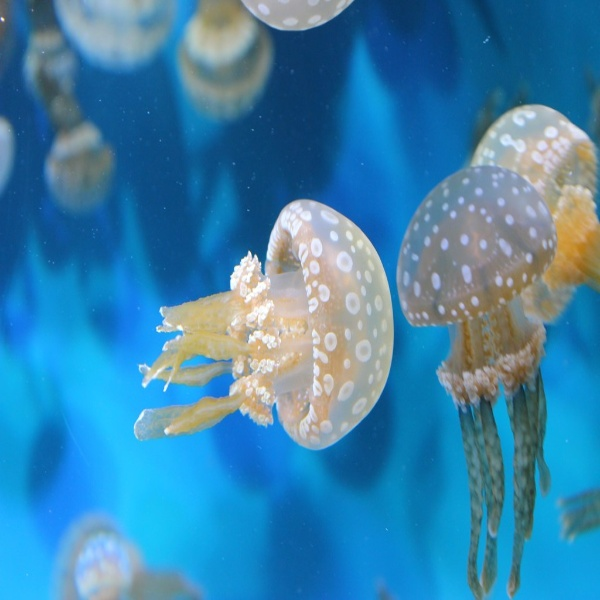Jellyfish: (394, 163, 558, 599), (132, 197, 393, 451), (57, 0, 353, 122), (469, 102, 599, 325), (15, 23, 114, 220), (53, 510, 199, 599)
